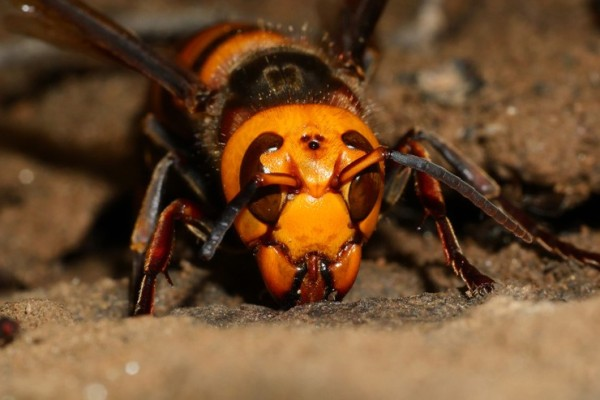asian_giant_hornet: (96, 20, 497, 309)
